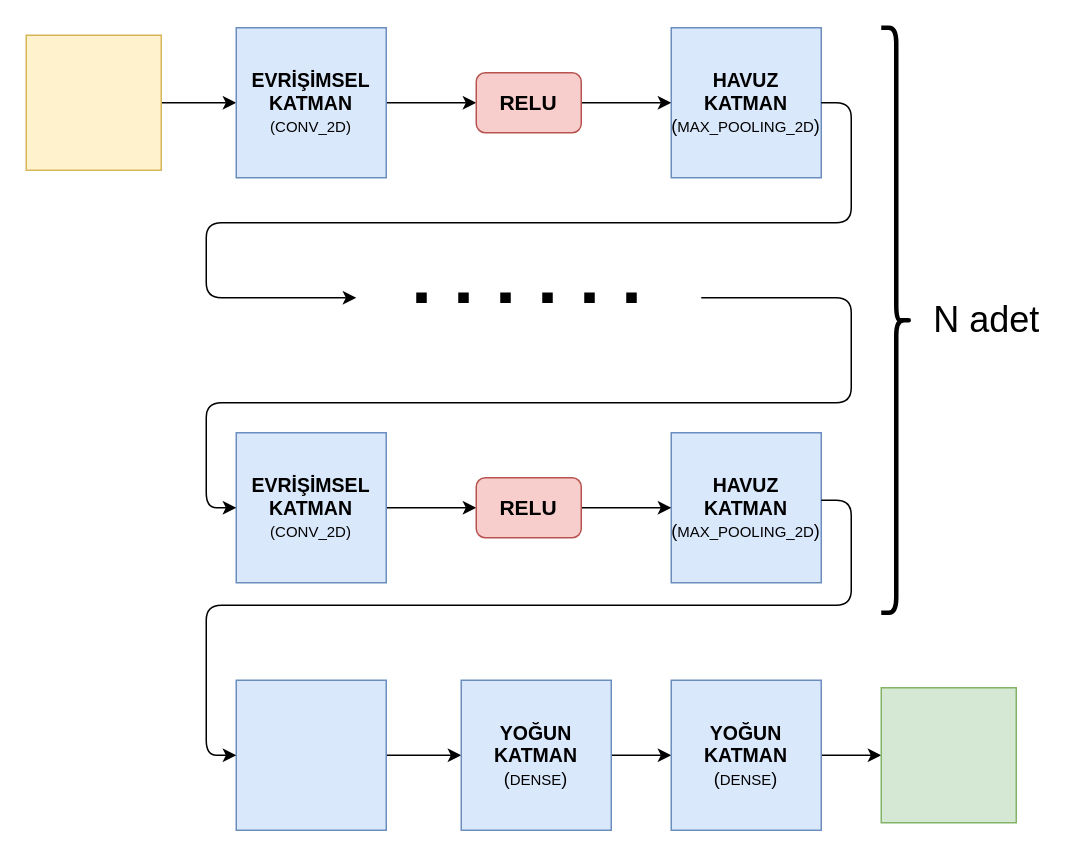
Image size: 1088x857. Some labels were removed from this diagram. Here are the shapes that lost their labels. From the top down, the centre of each, then its label:
the point at 93,102: GİRİŞ KATMANI
the point at 310,754: DÜZLEŞTİRİLMİŞ KATMAN ( FLATTEN )
the point at 948,754: ÇIKTI
